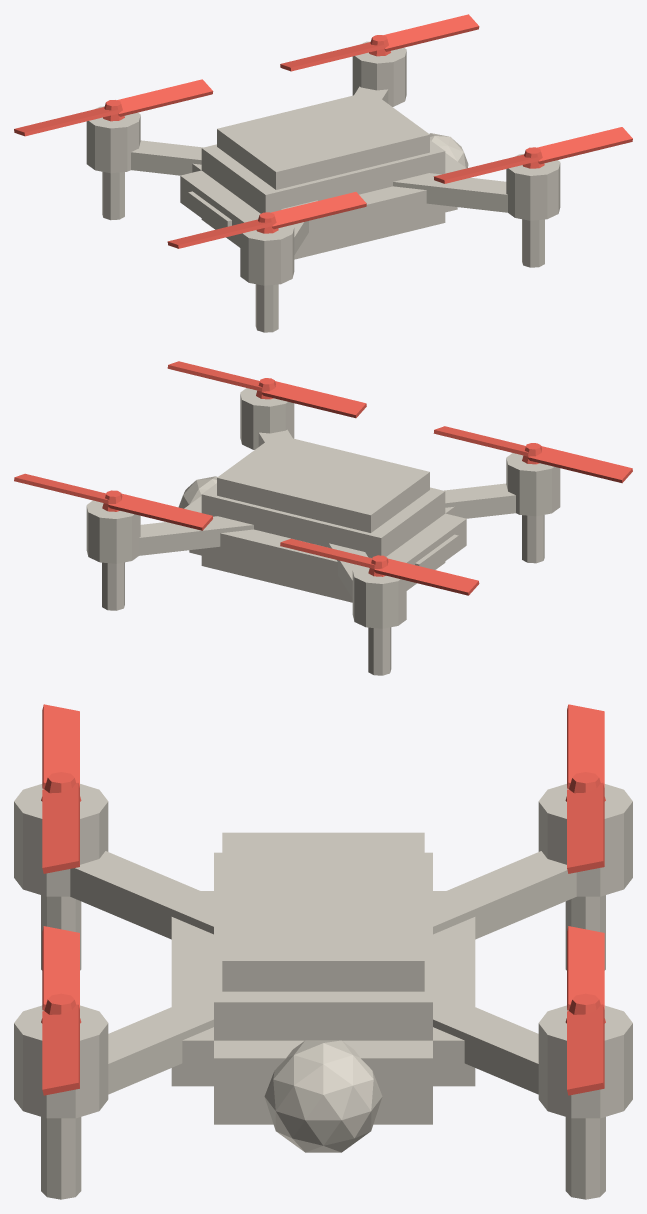
Rendered from drone.glb.
3 views of the same model, one above another, from view 1: azimuth 30°, elevation 25°; view 2: azimuth 150°, elevation 25°; view 3: azimuth 270°, elevation 25° (orthographic). The views are drawn at different scales.
Parts seen in each view (by area): view 1: drone_body, drone_prop_3, drone_prop_4, drone_prop_1, drone_prop_2; view 2: drone_body, drone_prop_2, drone_prop_1, drone_prop_3, drone_prop_4; view 3: drone_body, drone_prop_4, drone_prop_1, drone_prop_3, drone_prop_2.
Part boxes in pixels (<box>): drone_body: <box>86,41,560,332</box>; drone_prop_3: <box>167,192,366,248</box>; drone_prop_4: <box>433,127,632,183</box>; drone_prop_1: <box>280,14,479,71</box>; drone_prop_2: <box>14,79,213,136</box>; drone_body: <box>86,388,560,675</box>; drone_prop_2: <box>280,538,479,595</box>; drone_prop_1: <box>14,473,212,530</box>; drone_prop_3: <box>433,426,632,483</box>; drone_prop_4: <box>167,361,366,418</box>; drone_body: <box>14,784,632,1199</box>; drone_prop_4: <box>41,926,81,1095</box>; drone_prop_1: <box>565,926,605,1095</box>; drone_prop_3: <box>41,704,81,873</box>; drone_prop_2: <box>565,704,605,873</box>.
Size of the model in its own units: 0.5311 by 0.1255 by 0.3671.
